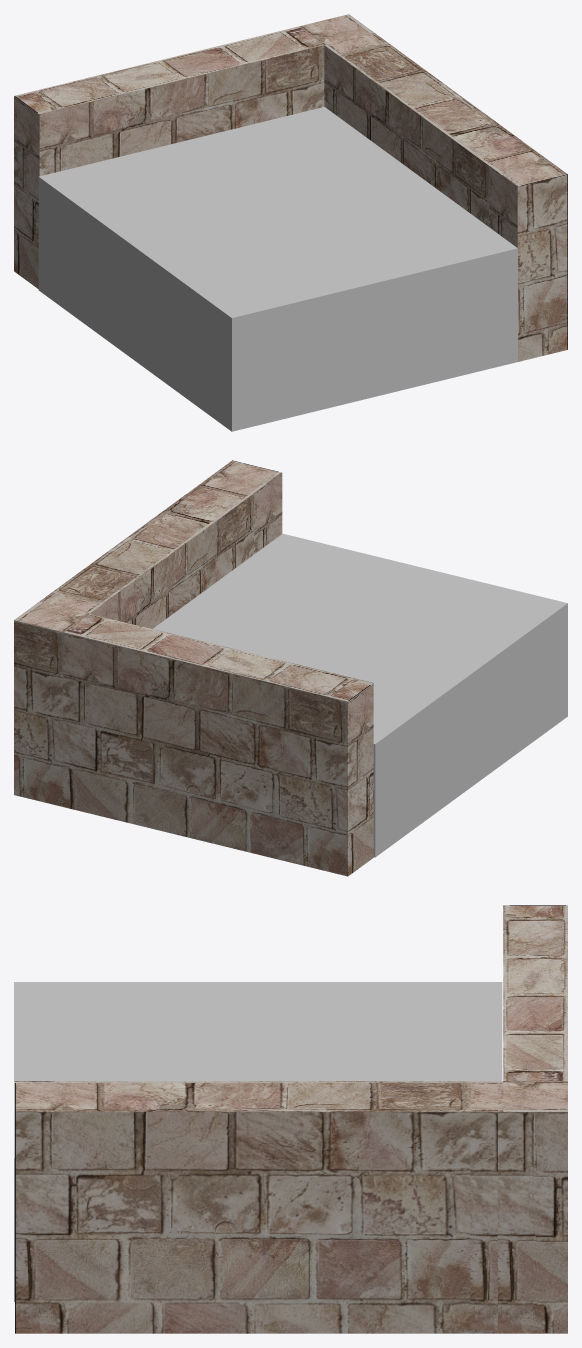
File: 2x2 dirt w wall corner.fbx
The picture shows the model from 3 angles, top to bottom: view 1: azimuth 30°, elevation 25°; view 2: azimuth 150°, elevation 25°; view 3: azimuth 270°, elevation 25°; orthographic projection. The views are drawn at different scales.
Parts seen in each view (by area): view 1: polySurface5; view 2: polySurface5; view 3: polySurface5.
Part boxes in pixels (box(x1,y1,x2,y2)): polySurface5: box(14, 14, 567, 431); polySurface5: box(14, 460, 567, 876); polySurface5: box(14, 905, 567, 1333).
Bounding box in the file's own units: 2.01 × 1 × 2.27.
